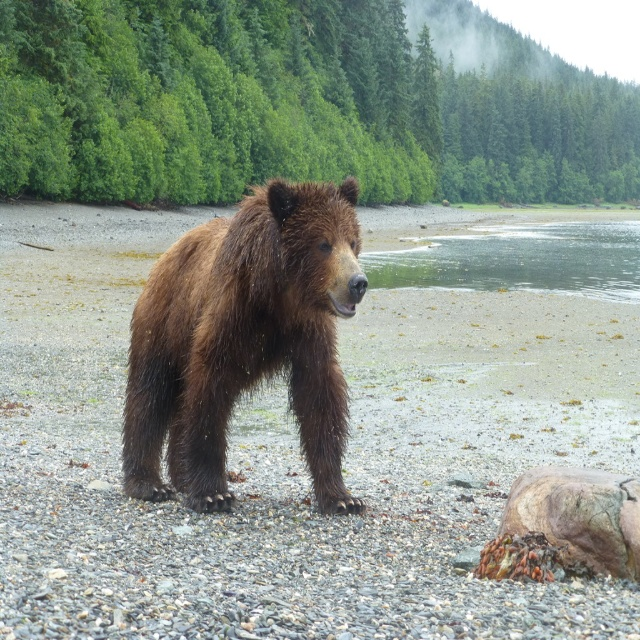Brown bear: (123, 178, 370, 512)
